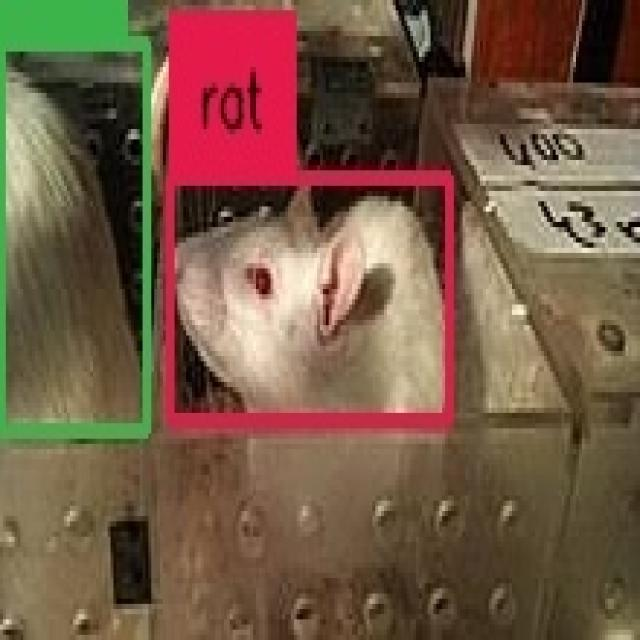rat: (170, 176, 450, 418), (0, 46, 145, 428)
